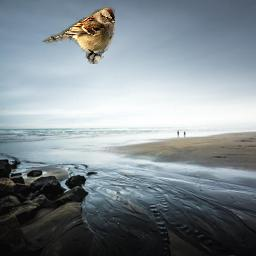Sparrow: (43, 8, 116, 65)
